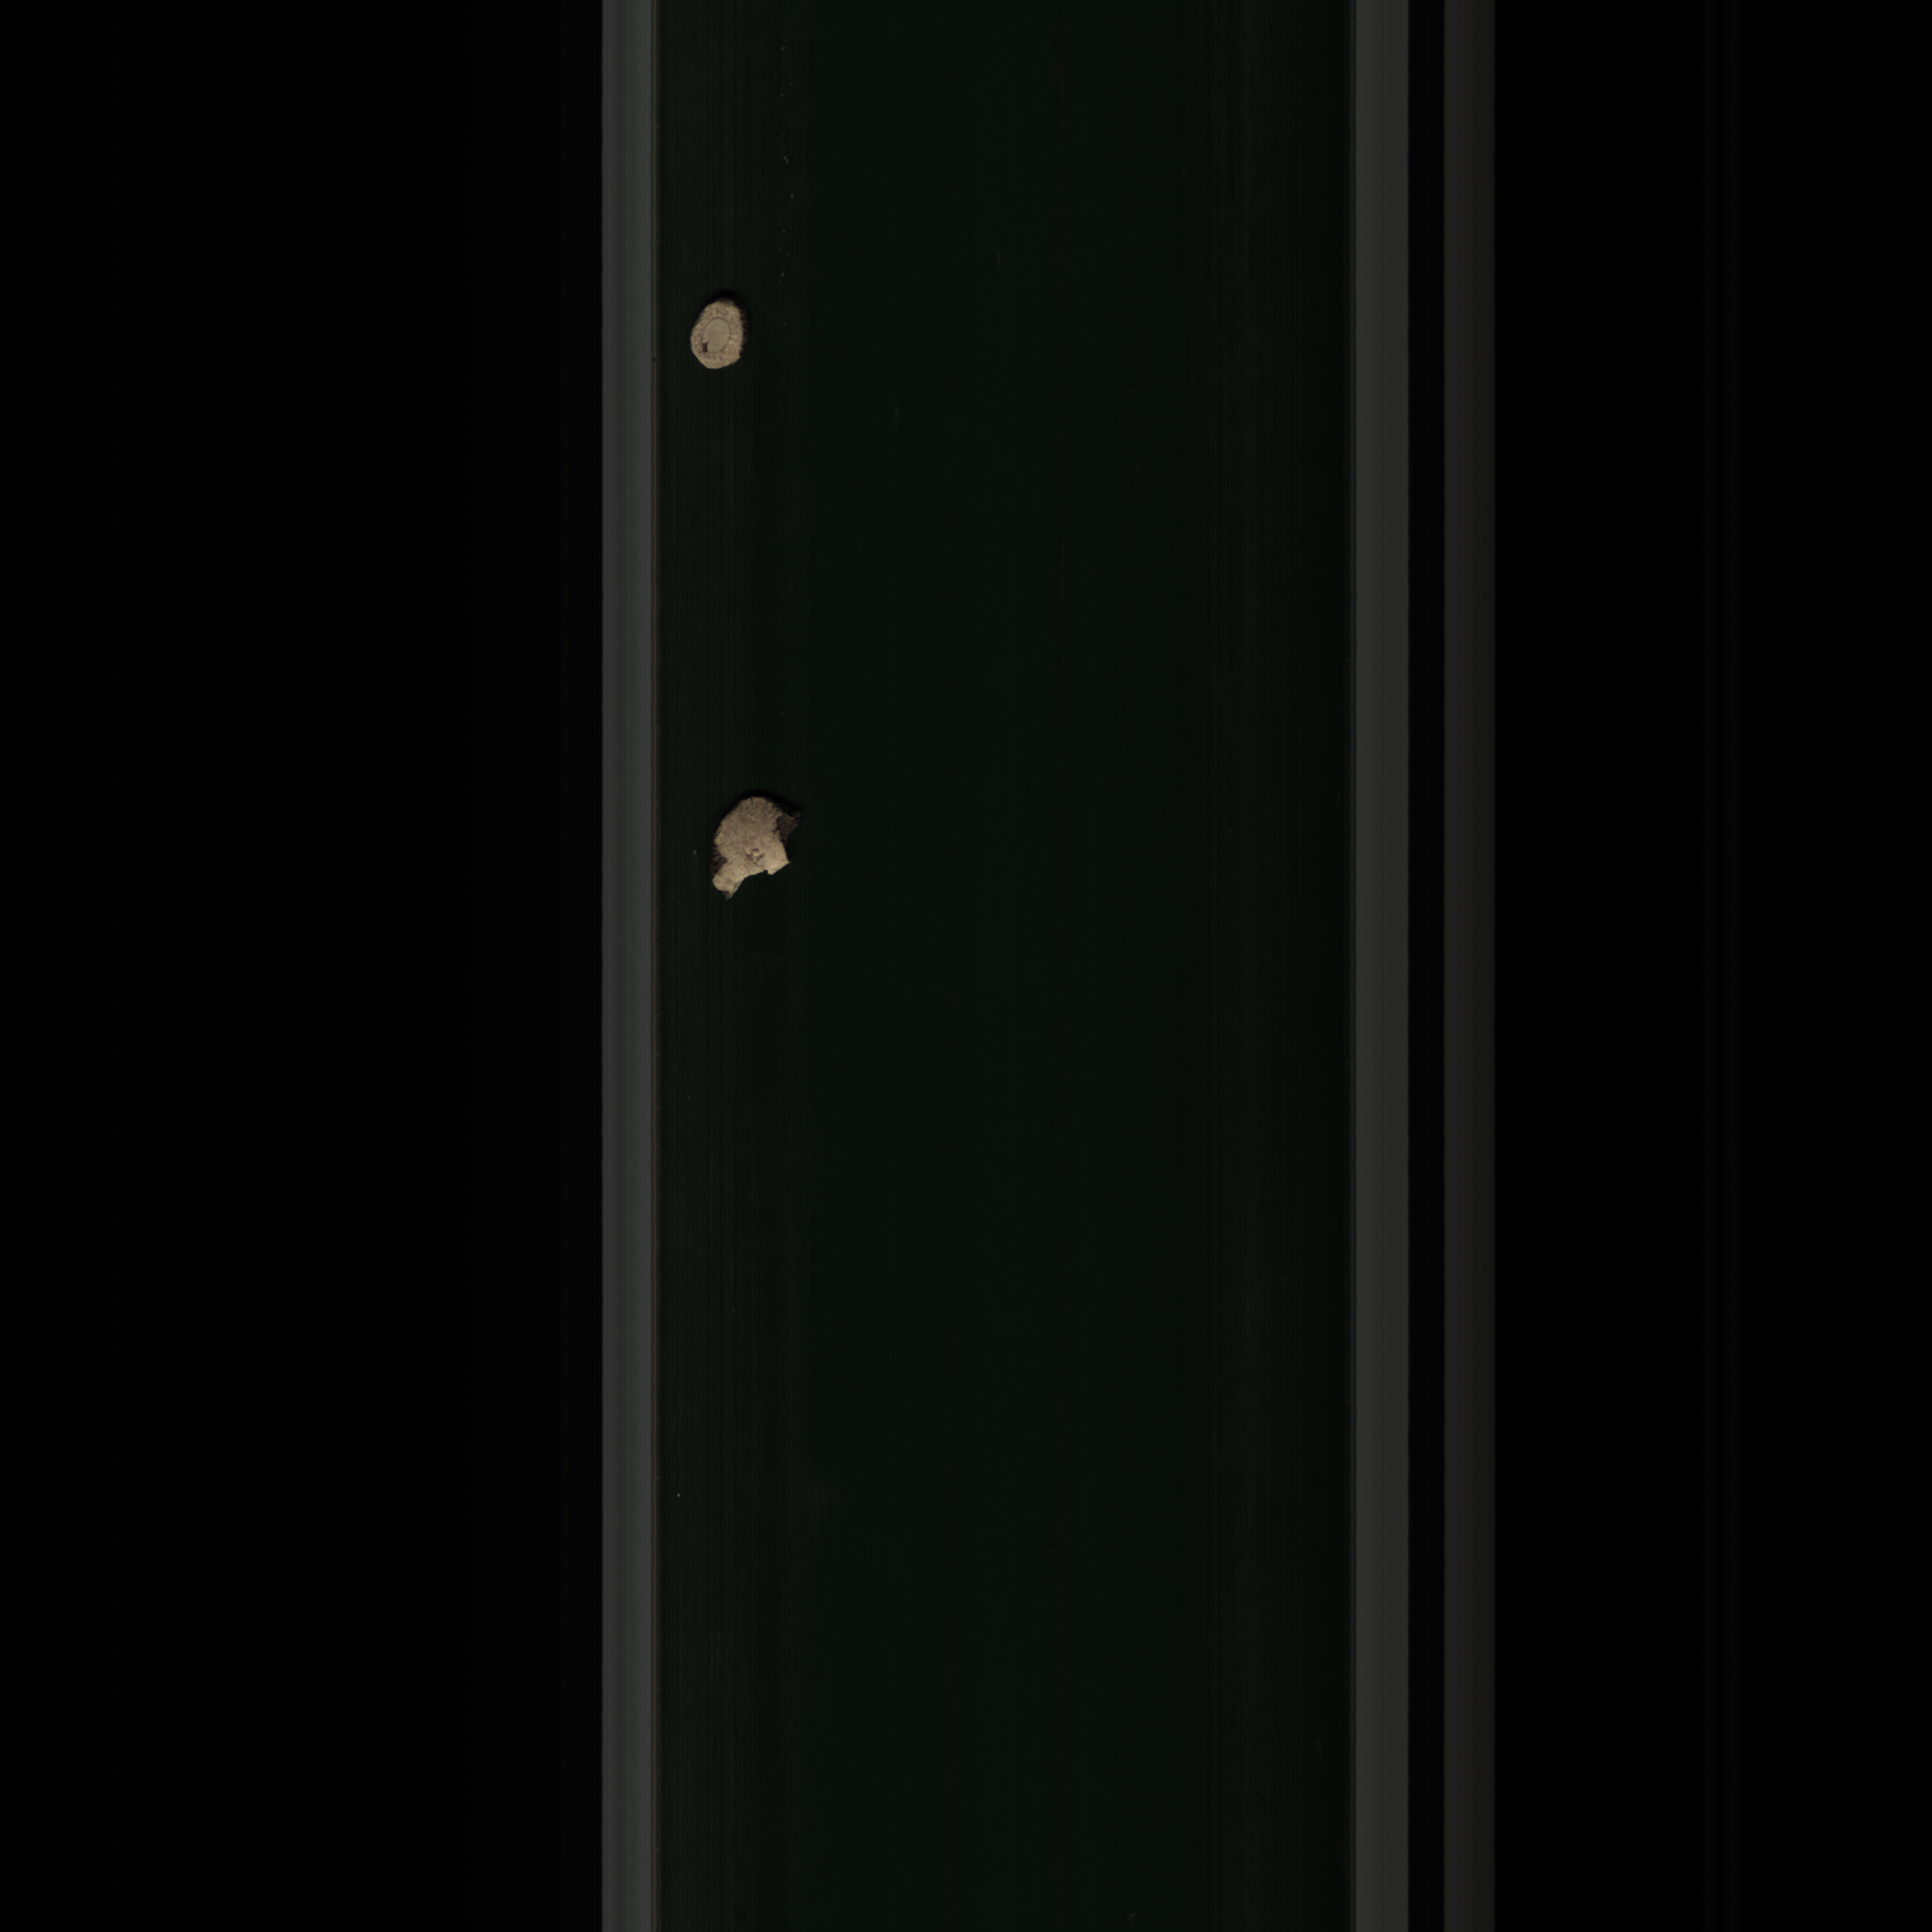debris: (702, 786, 814, 901)
hole: (685, 287, 748, 384)
